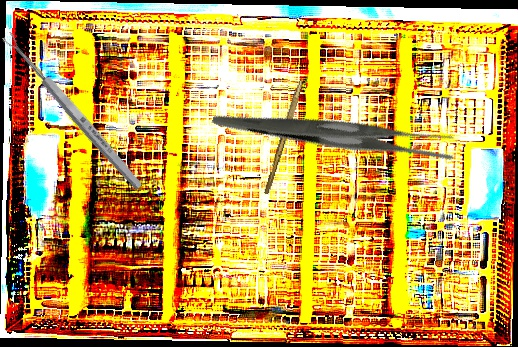Dressing Forceps: (211, 41, 461, 222)
Scalpel Handle: (263, 78, 304, 196)
Surgical Spoon: (1, 30, 145, 192)
